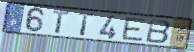4: (98, 14, 119, 41)
6: (25, 6, 47, 34)
B: (145, 18, 172, 45)
E: (121, 16, 148, 42)
T: (52, 9, 72, 35), (77, 12, 95, 37)
